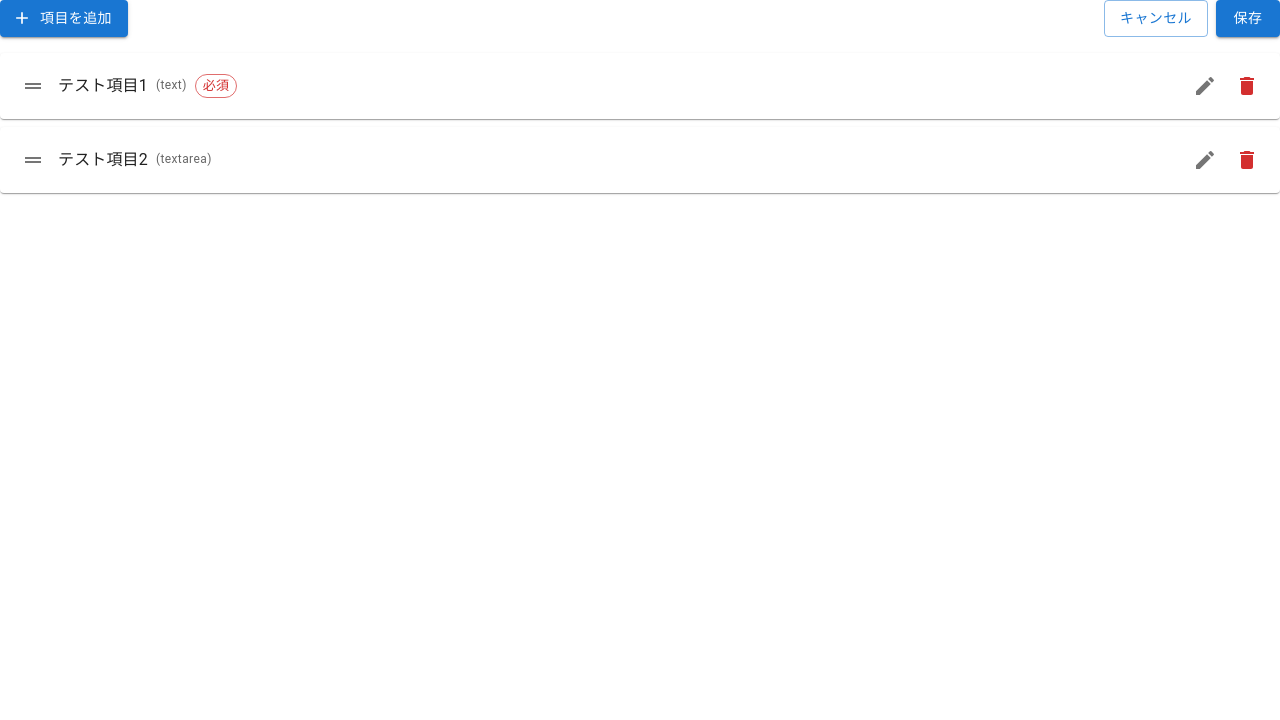
Test case: FormBuilder › adds a new field when add button is clicked
Click the button "項目を追加" at (64,18), box [0, 0, 128, 36]
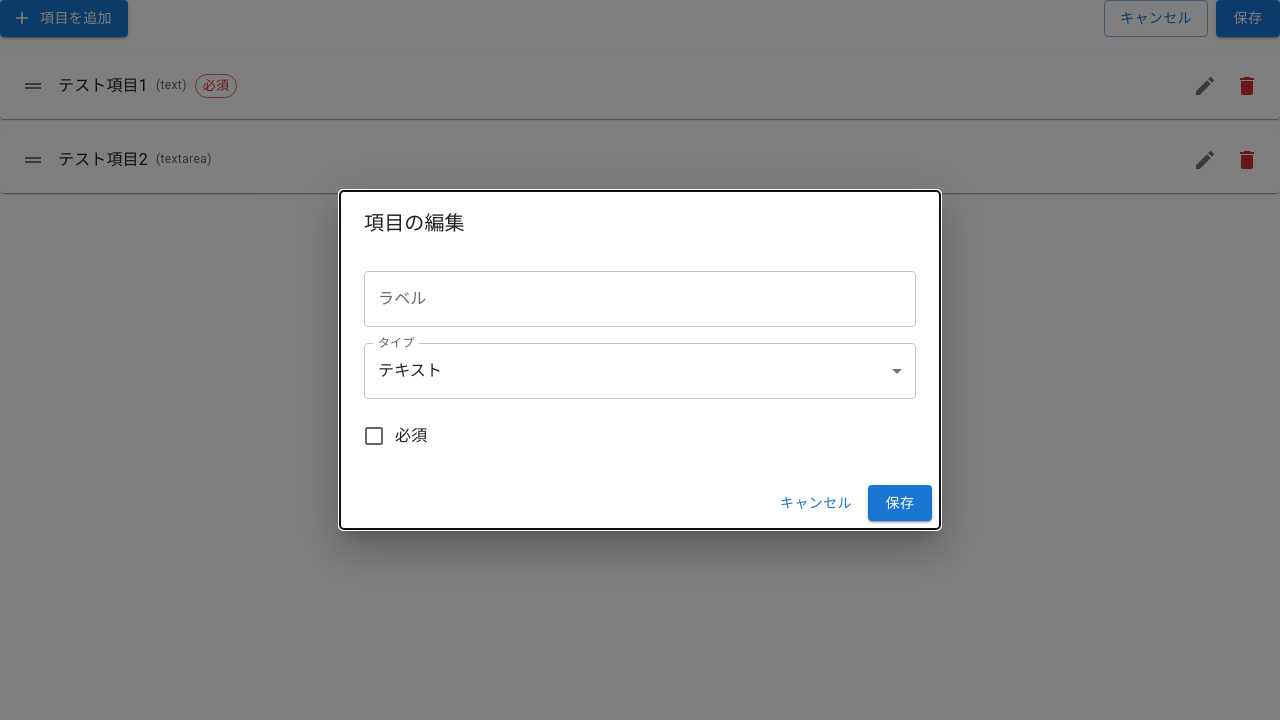
Check: the heading "項目の編集" is shown, box [364, 211, 465, 235]
